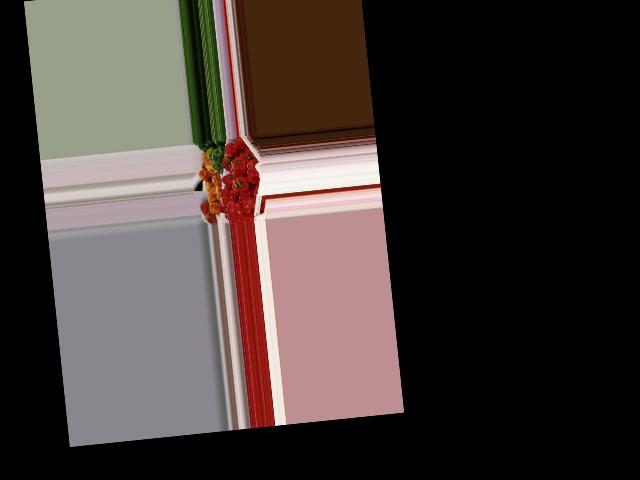bell_pepper: (245, 158, 261, 185)
